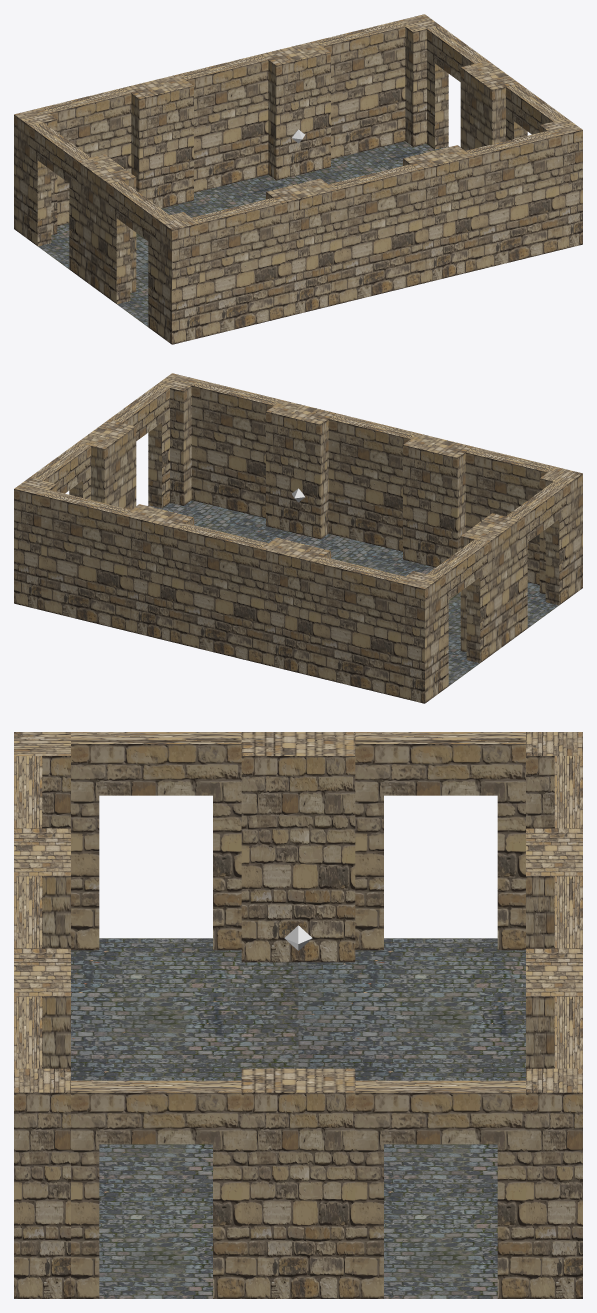
Rendered from 1_6blockHallway.fbx.
The picture shows the model from 3 angles, top to bottom: view 1: azimuth 30°, elevation 25°; view 2: azimuth 150°, elevation 25°; view 3: azimuth 270°, elevation 25°; orthographic projection. The views are drawn at different scales.
Visible parts, largest first — view 1: Cube_13, Plane; view 2: Cube_13, Plane; view 3: Cube_13, Plane.
Boxes of the visible parts, x1=… form: Cube_13: x1=14, y1=14, x2=582, y2=344; Plane: x1=38, y1=141, x2=448, y2=326; Cube_13: x1=14, y1=373, x2=582, y2=703; Plane: x1=148, y1=500, x2=558, y2=685; Cube_13: x1=14, y1=732, x2=582, y2=1298; Plane: x1=71, y1=938, x2=525, y2=1298.
Size of the model in its own units: 30 by 8 by 20.
3 materials, 3 textured.
